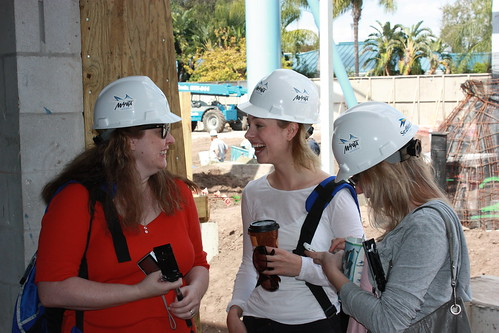person hardhat: (37, 74, 208, 333), (227, 68, 364, 332), (329, 98, 481, 333), (203, 126, 227, 165)
